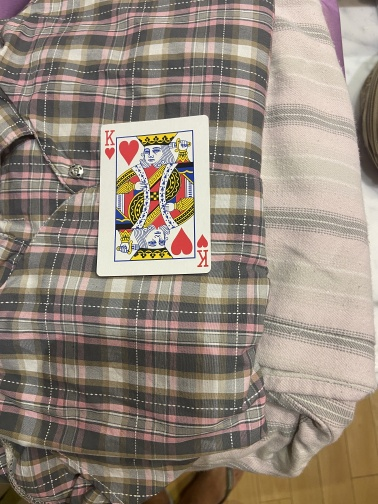king: (94, 114, 213, 279)
